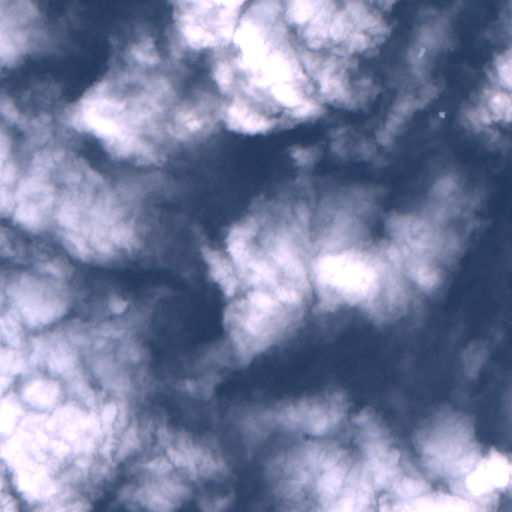Iceberg: (417, 48, 425, 57), (439, 112, 445, 118), (451, 49, 452, 50)
